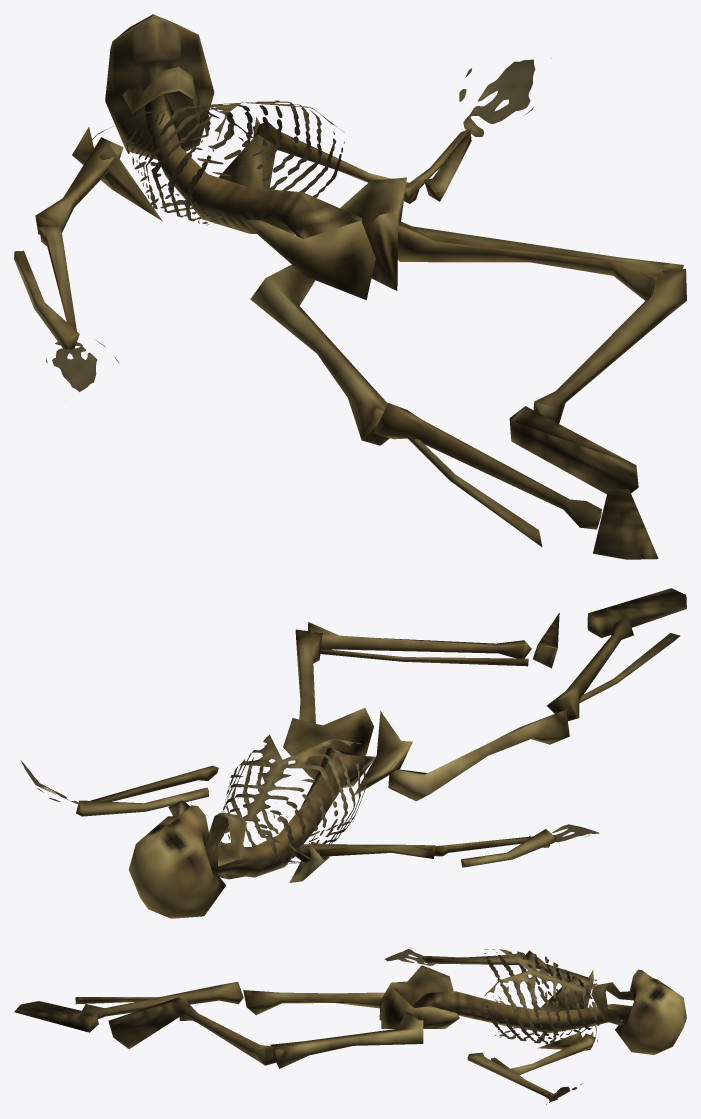
Rendered from mlzd_kulou_01.FBX.
The picture shows the model from 3 angles, top to bottom: view 1: azimuth 30°, elevation 25°; view 2: azimuth 150°, elevation 25°; view 3: azimuth 270°, elevation 25°; orthographic projection. The views are drawn at different scales.
Visible parts, largest first — view 1: mlzd_kulou_01; view 2: mlzd_kulou_01; view 3: mlzd_kulou_01.
Boxes of the visible parts, x1,y1,x2,y2 form: mlzd_kulou_01: (14, 14, 686, 559); mlzd_kulou_01: (20, 588, 686, 918); mlzd_kulou_01: (14, 947, 686, 1104).
Size of the model in its own units: 153 by 35.58 by 253.
